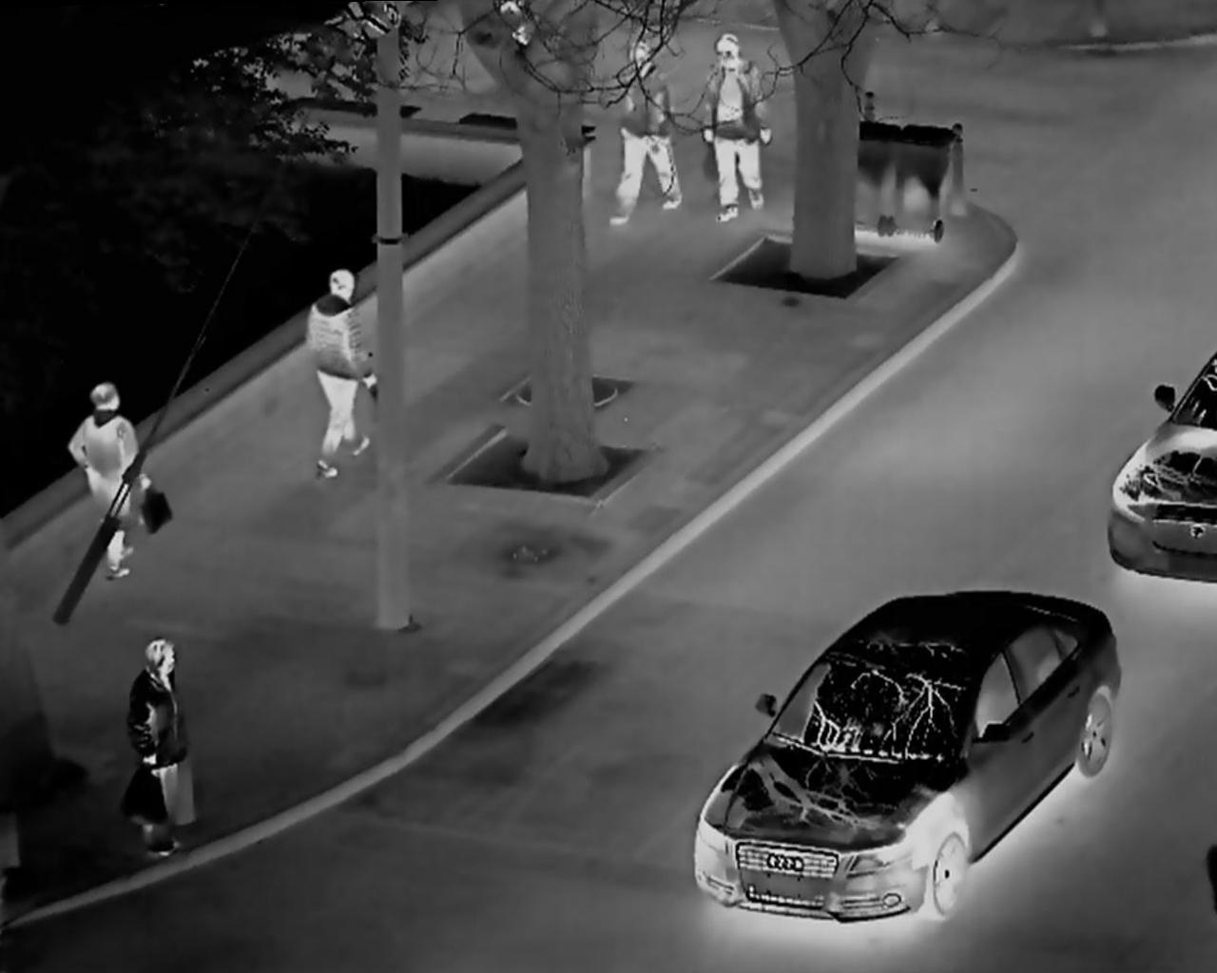person: (107, 628, 210, 873), (67, 372, 175, 594), (296, 246, 377, 473), (692, 22, 773, 236), (608, 28, 684, 230)
